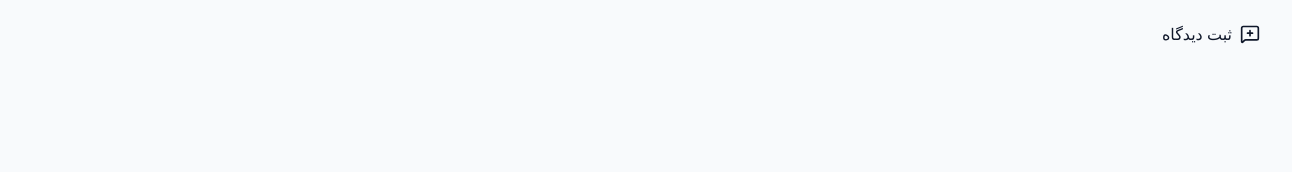
Test case: a comment form whose code cannot load › explains in place and offers to reload the page
Later steps or results of the test are not shown.
Step 1. Click the button "ثبت دیدگاه" → coordinates (1211, 34), box [1142,12,1280,56]
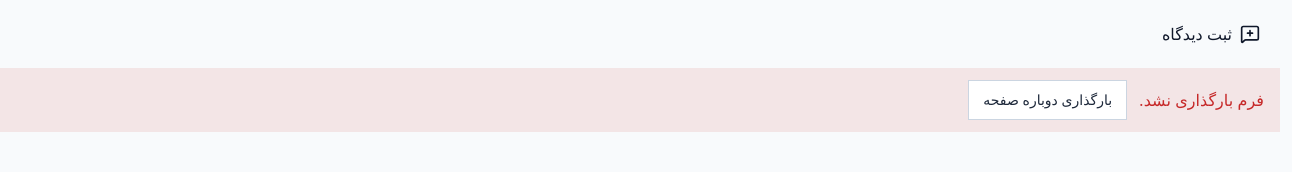
Expected: the message shows "فرم بارگذاری نشد.", [1139,90,1264,110]
